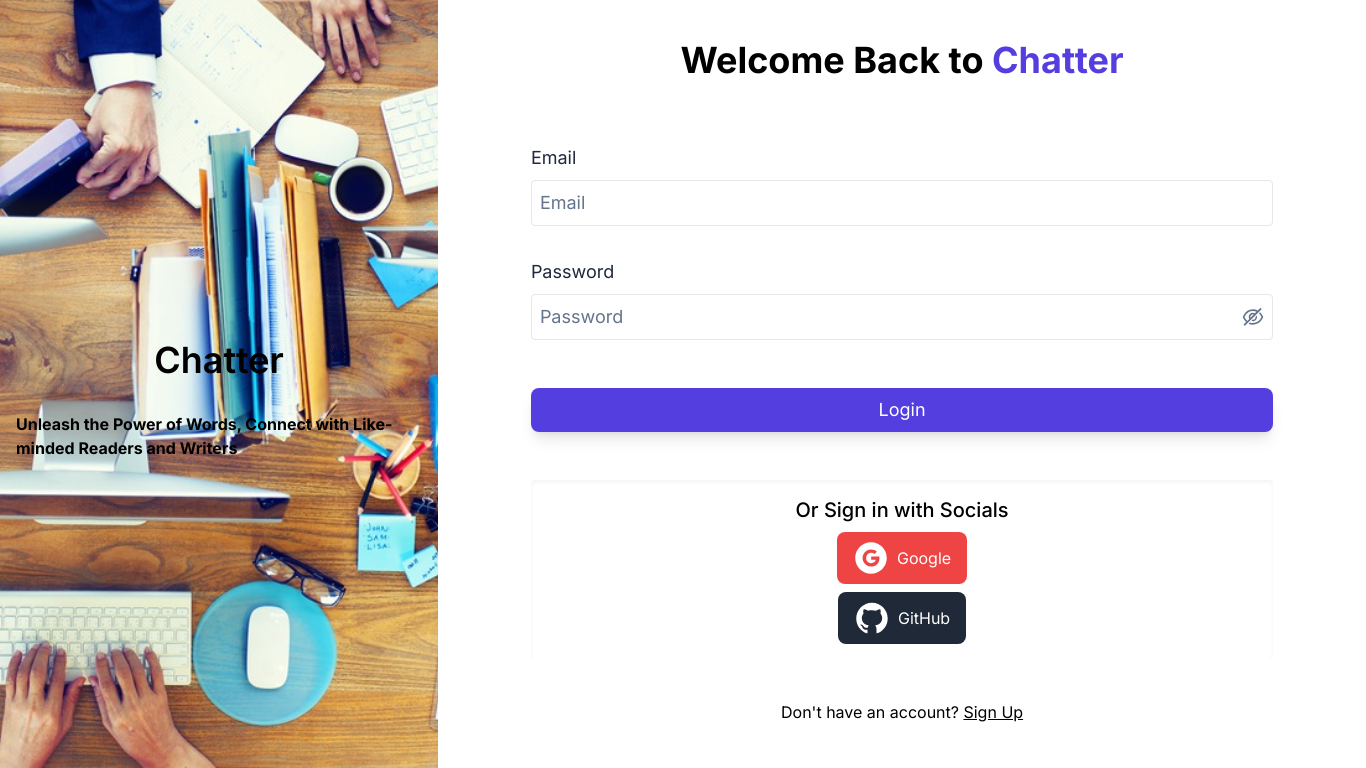
Scenario: login page › login functionality › login with incorrect credentials
Step 1. Type "test@test.com" into the field with id "email" → (902, 203), box [531, 180, 1273, 226]
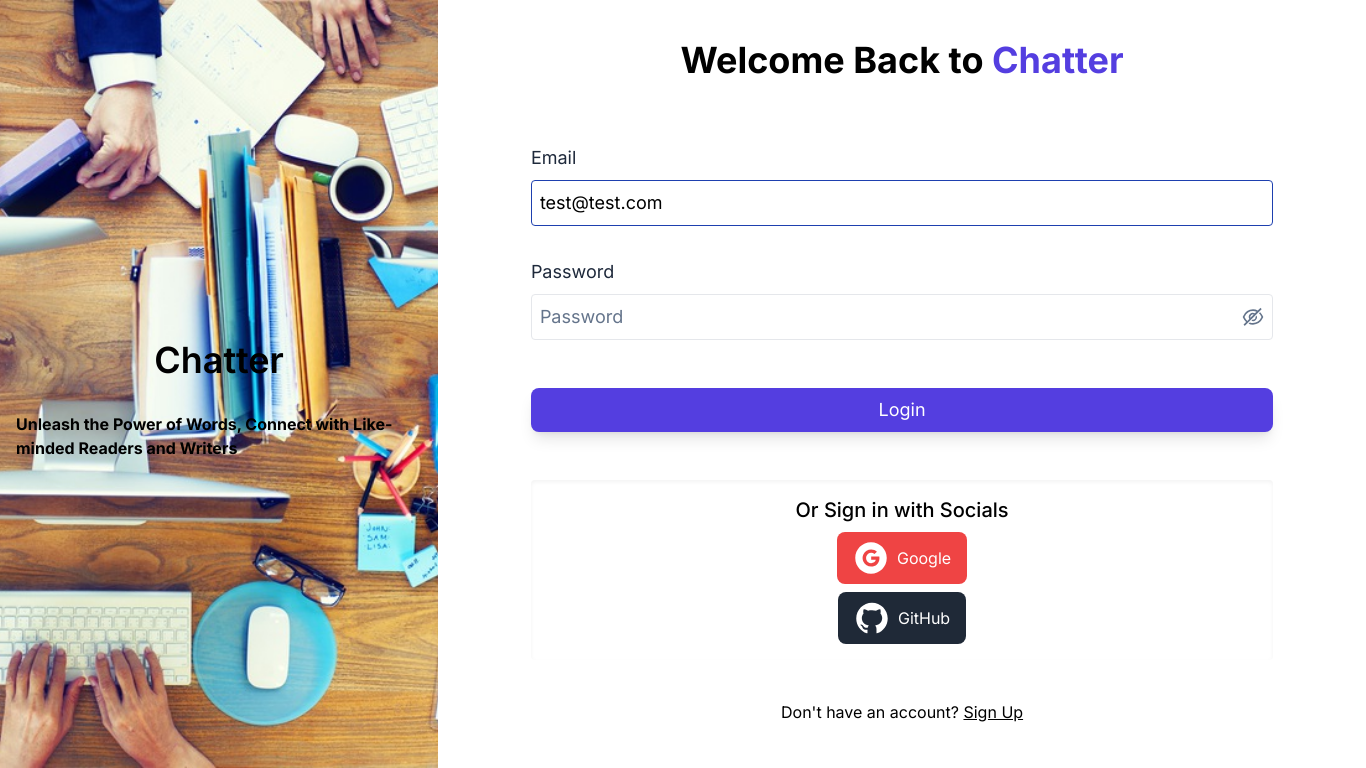
Step 2. Type "test123" into the password field with placeholder "Password" → (902, 317), box [531, 294, 1273, 340]
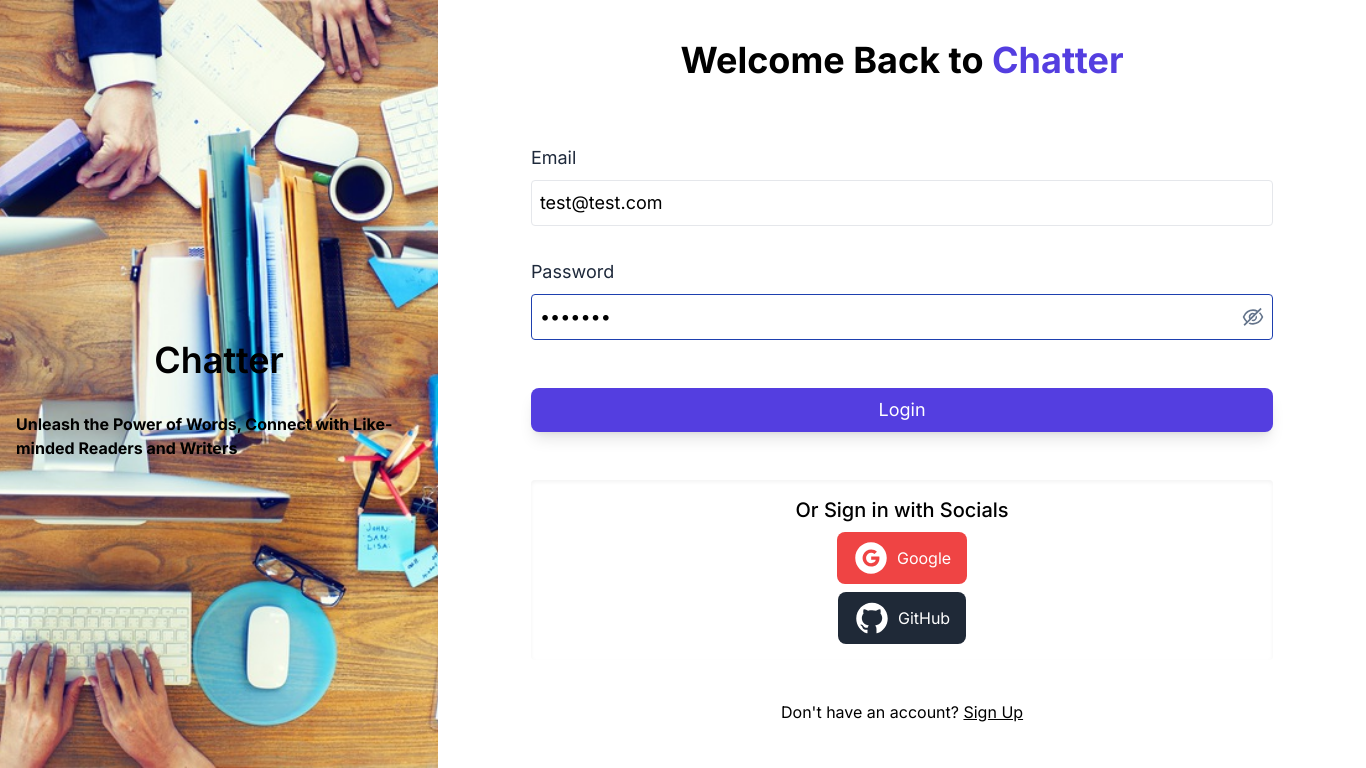
Step 3. Click the button "Login" → (902, 410), box [531, 388, 1273, 432]
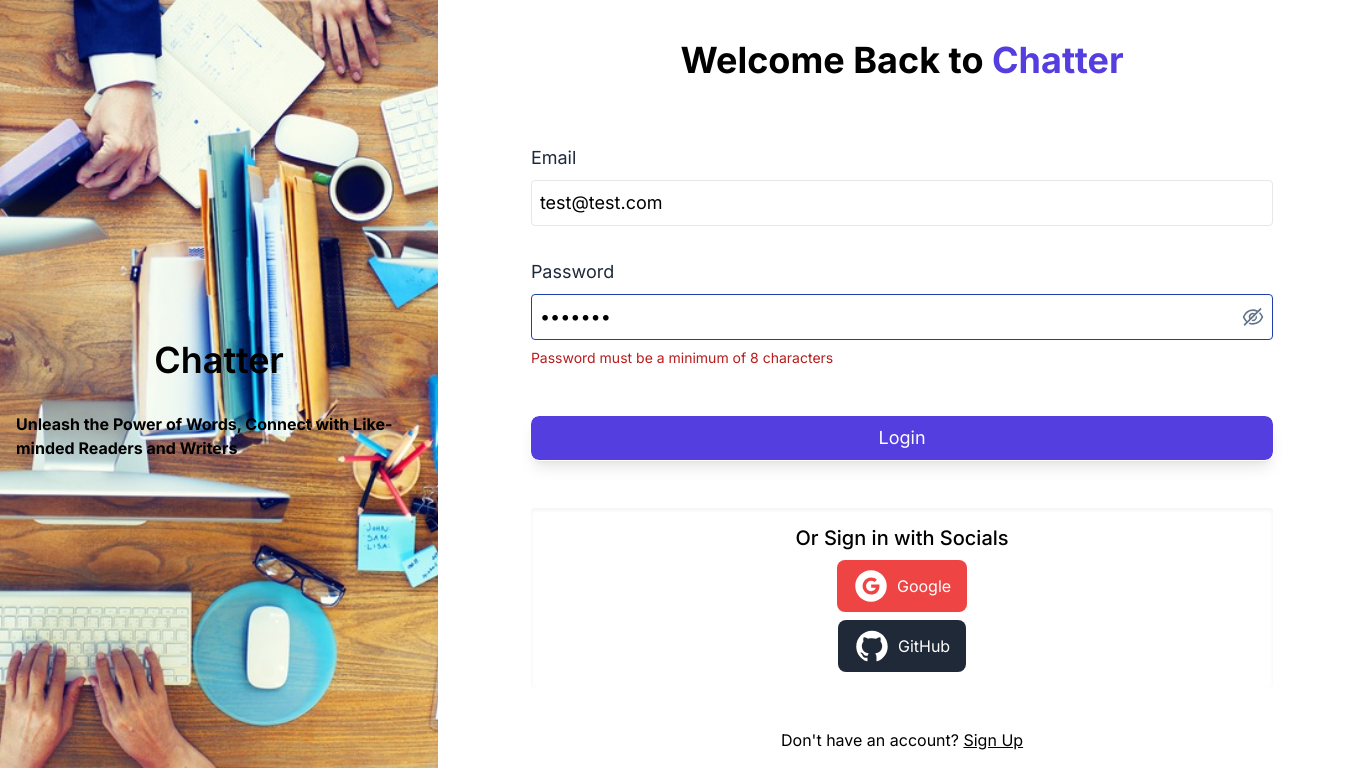
Expected: the message "Password must be a minimum of 8 characters" is shown, [531, 349, 833, 366]
